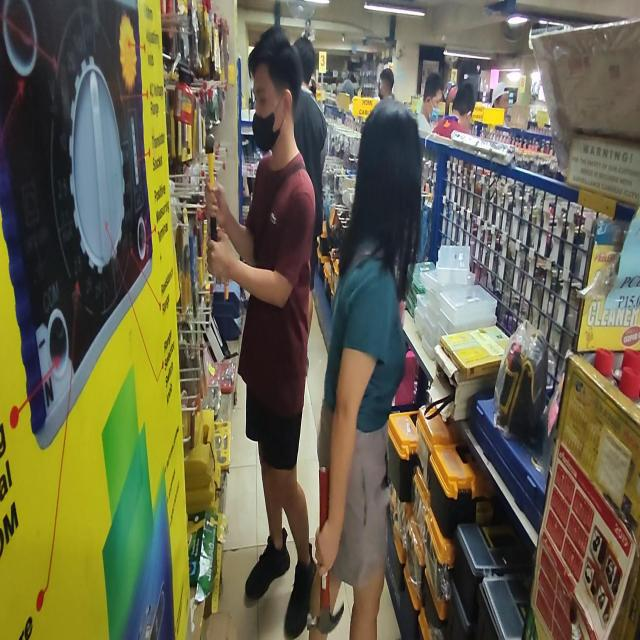hammer: (307, 468, 345, 633), (206, 134, 217, 242)
